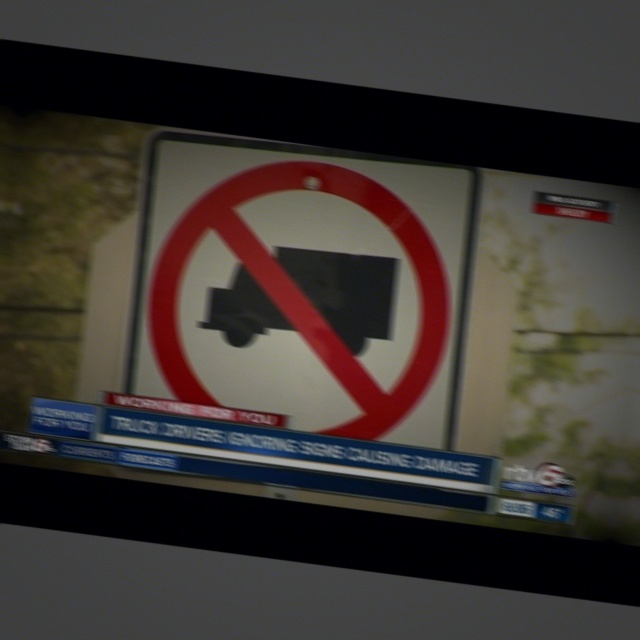Truck_Prohibited: (138, 148, 465, 434)
